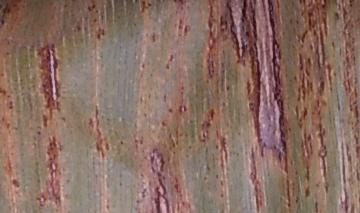tarspot: (2, 3, 11, 14), (117, 137, 125, 146), (8, 100, 13, 110), (1, 17, 7, 25), (147, 1, 153, 8), (91, 2, 97, 9), (36, 129, 42, 136)
